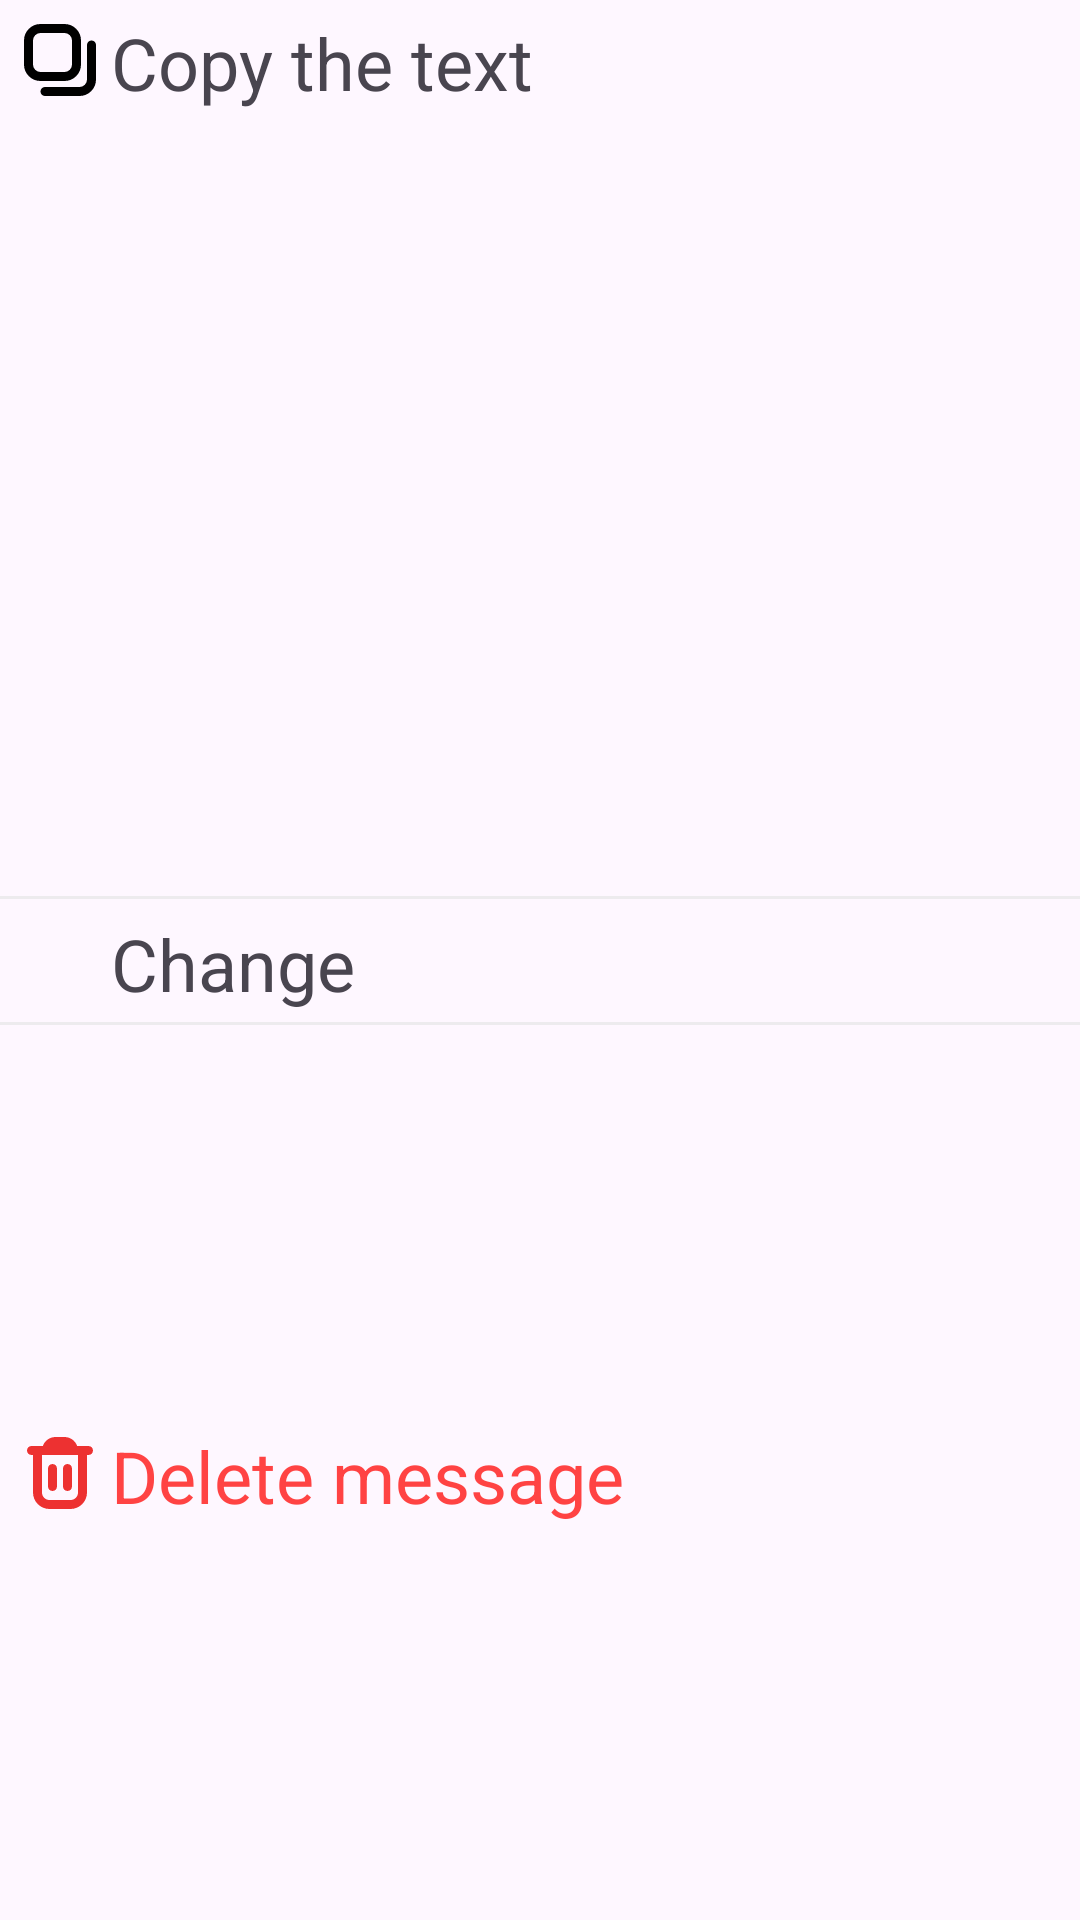

Locate icon controls on the screen. Image size 1080px×1920px, boxes as (x1, y1, x2, y2).
delete account: (27, 1437, 93, 1509)
